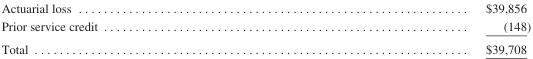table: (0, 1, 530, 55)
table column: (0, 1, 290, 55), (290, 1, 530, 55)
table row: (0, 17, 530, 37), (0, 37, 530, 55), (0, 1, 530, 17)
